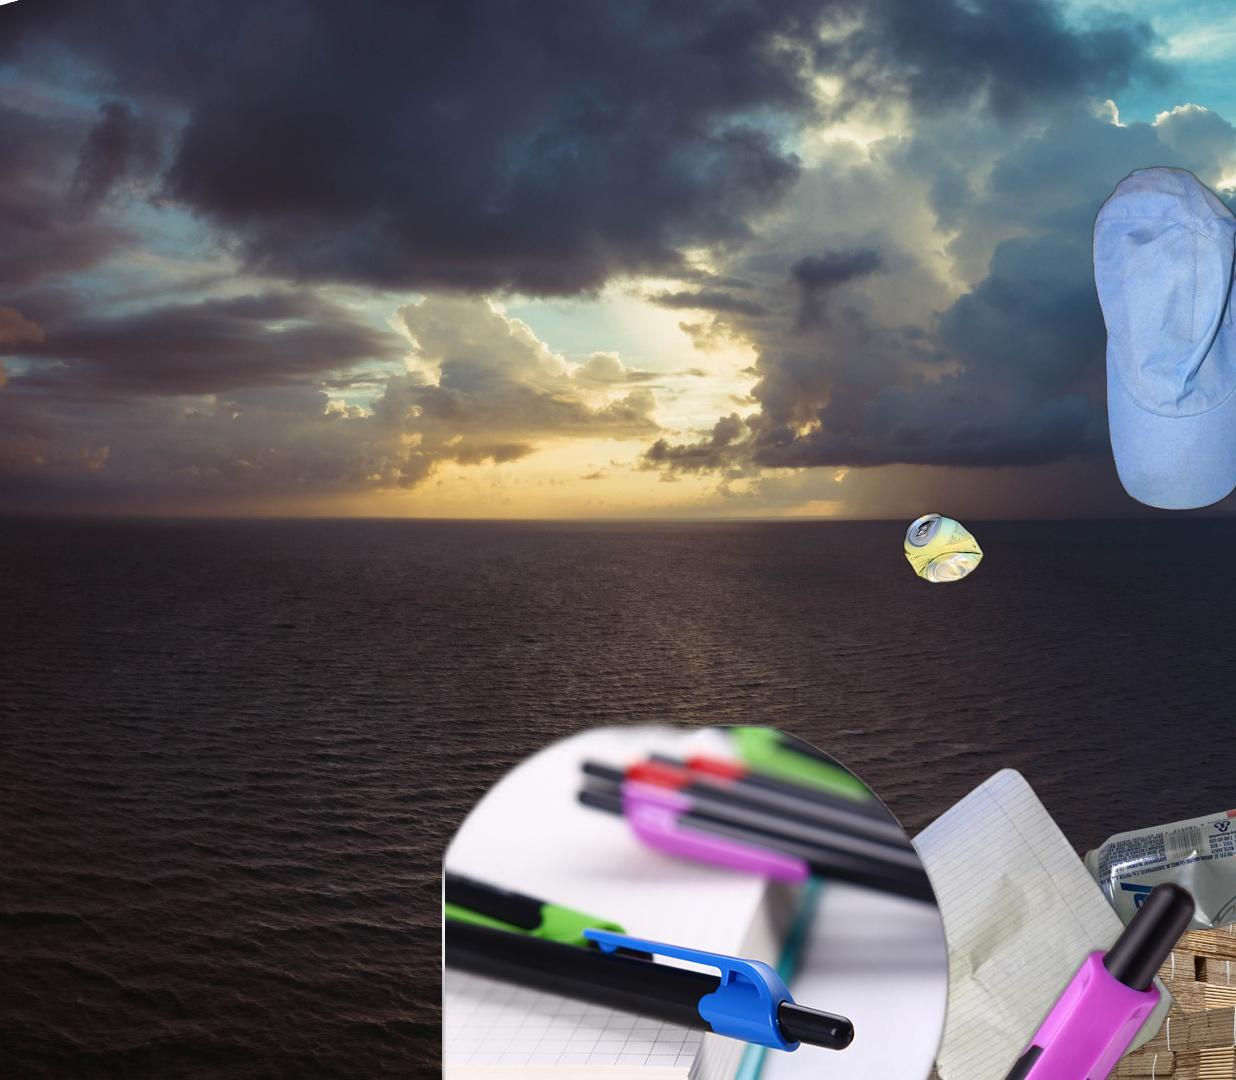clothes: (1089, 164, 1236, 513)
metal-cans: (1079, 798, 1236, 946), (900, 506, 989, 590)
paper: (830, 764, 1189, 1080), (1197, 691, 1236, 1075)
penholder: (442, 699, 1213, 1080)
trashbox-cardboard: (646, 668, 1236, 1080)
